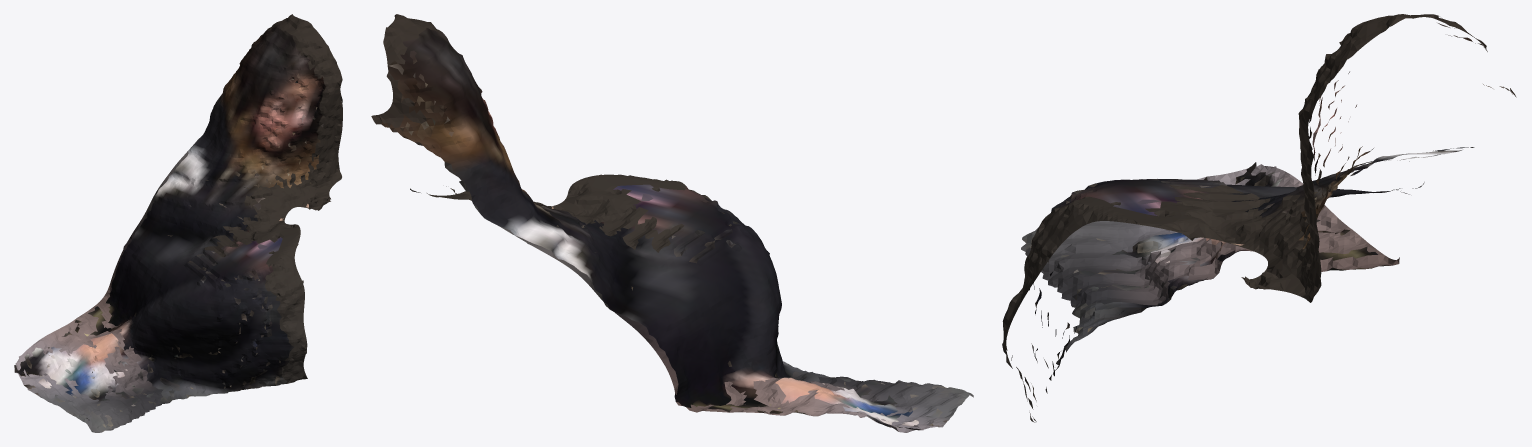
3 renders of one model, left to right at view 1: azimuth 30°, elevation 25°; view 2: azimuth 150°, elevation 25°; view 3: azimuth 270°, elevation 25°, orthographic. The views are drawn at different scales.
Size of the model in its own units: 0.885 by 0.6464 by 0.602.
1 material, 1 textured.
